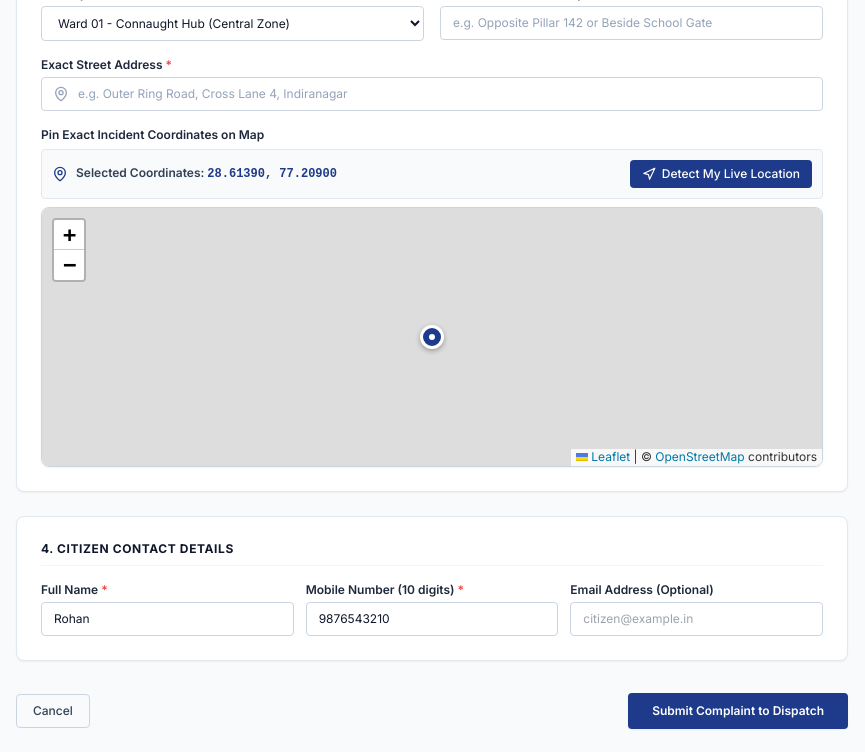
Test: UI Components, Accessibility & Role Protection › SubmitComplaintPage shows live heuristic triage and accessible validation errors
This screenshot has width=865, height=752.
(page scrolled)
Click the button "Submit Complaint to Dispatch" at (738, 710), box [628,692,848,728]
(page scrolled)
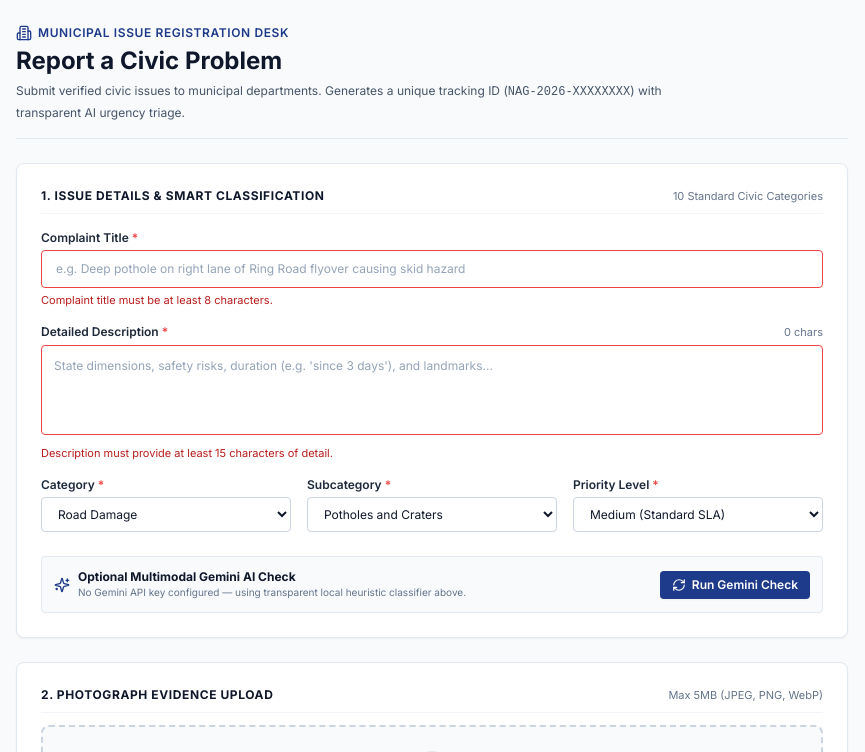
Now the text "Complaint title must be at least 8 characters." is shown, box [41,292,273,306]
Replace the text in the field labelled "Complaint Title *" with "Overflowing garbage bin near market square" at (432, 268), box [41,250,823,288]
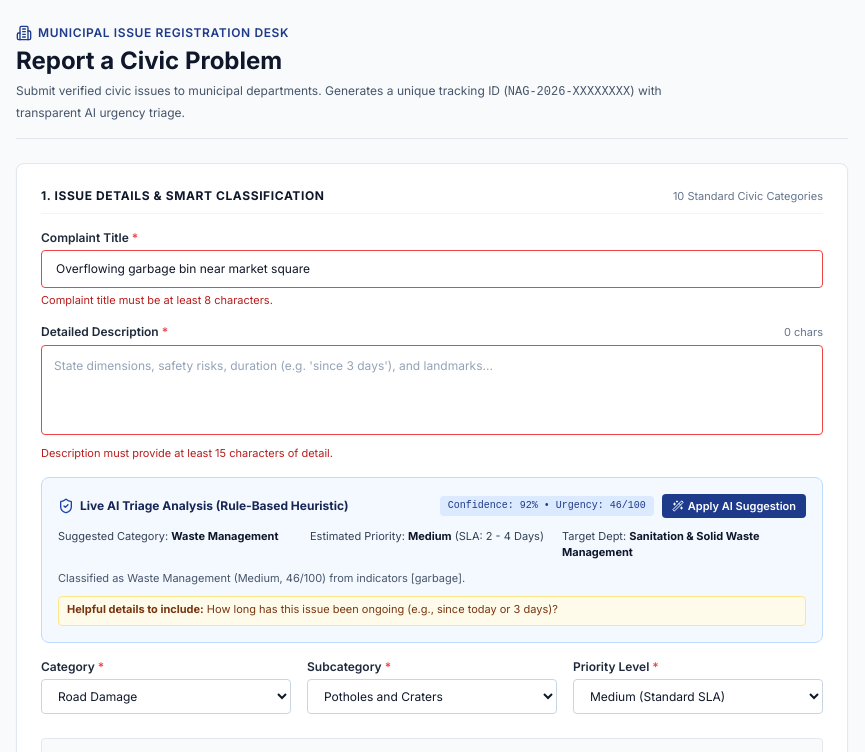
Now the text "Live AI Triage Analysis (Rule-Based Heuristic)" is shown, box [80,498,348,514]
Click the button "Apply AI Suggestion" at (734, 506), box [662,494,806,518]
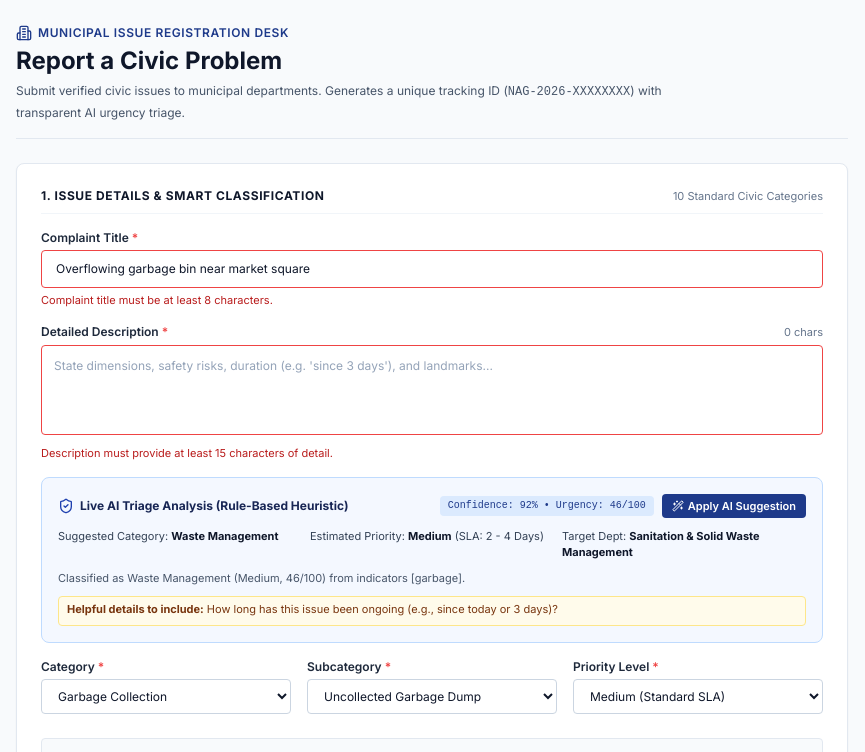
Now the dropdown labelled "Category *" shows "Garbage Collection", box [41,679,291,714]
